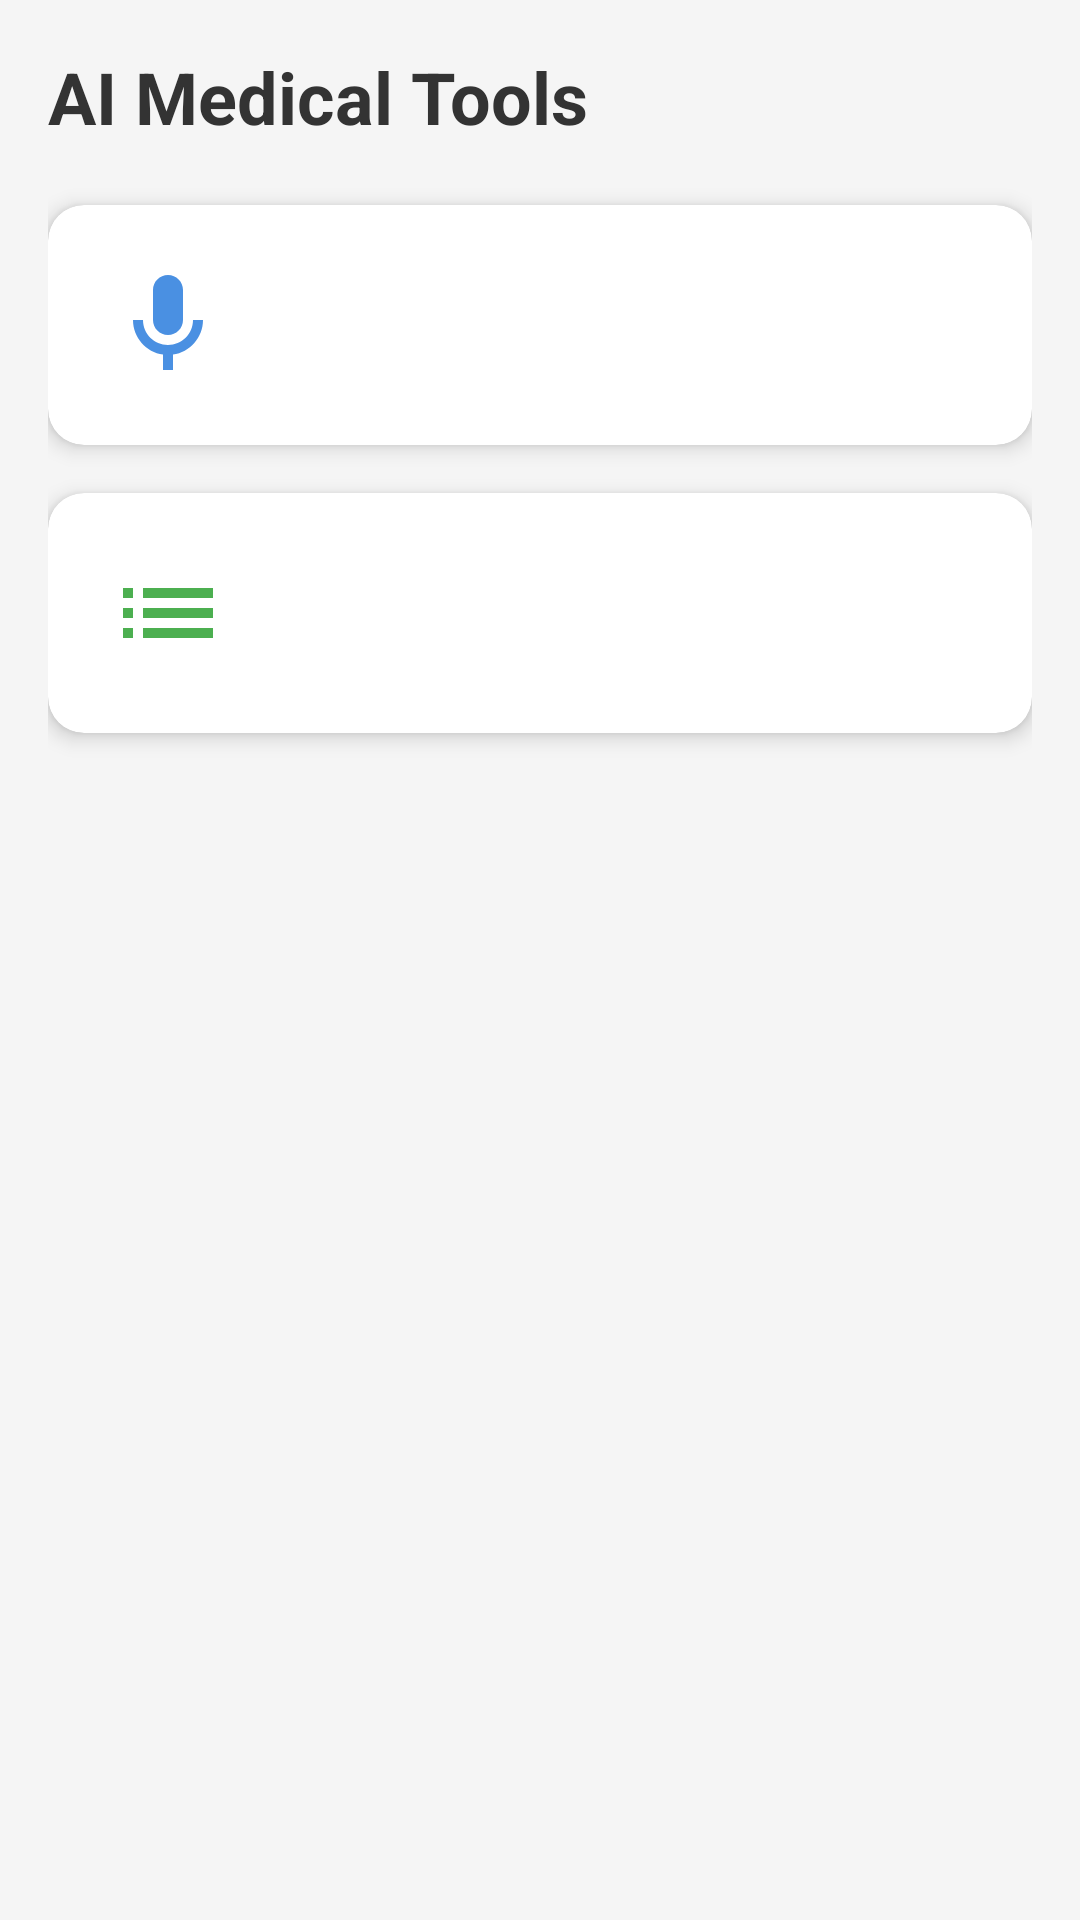

Icons on this 1080px x 1920px Android screen, each with its box as (x1, y1, x2, y2):
features: (123, 588, 213, 638)
mic: (133, 275, 203, 370)
